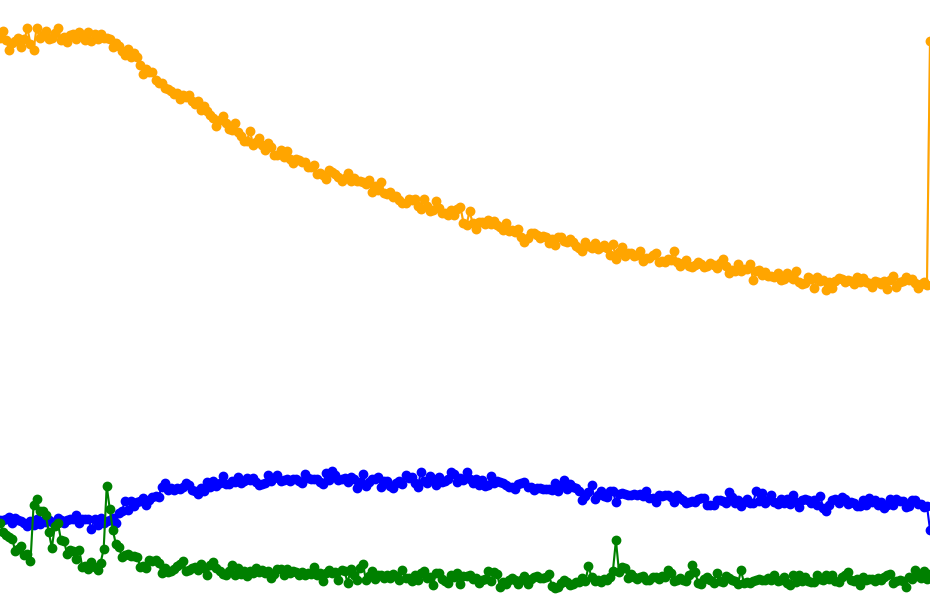CO2 Problem: (146, 0, 365, 616), (439, 0, 658, 616), (0, 0, 146, 616), (804, 0, 930, 616)
Condensation (CO2): (365, 0, 585, 616)
High CO2: (658, 0, 930, 616)
High O2: (146, 0, 365, 616), (439, 0, 658, 616), (0, 0, 146, 616)
Low CO2: (146, 0, 365, 616), (439, 0, 658, 616), (0, 0, 146, 616), (658, 0, 804, 616), (804, 0, 930, 616), (365, 0, 439, 616)
Normal: (365, 0, 930, 616), (365, 0, 878, 616), (439, 0, 930, 616), (146, 0, 585, 616), (0, 0, 365, 616), (146, 0, 365, 616), (439, 0, 658, 616), (0, 0, 146, 616), (439, 0, 585, 616), (658, 0, 804, 616), (804, 0, 930, 616), (365, 0, 439, 616)
O2 Problem: (658, 0, 930, 616), (146, 0, 365, 616), (439, 0, 658, 616), (0, 0, 146, 616), (439, 0, 585, 616), (804, 0, 930, 616)
